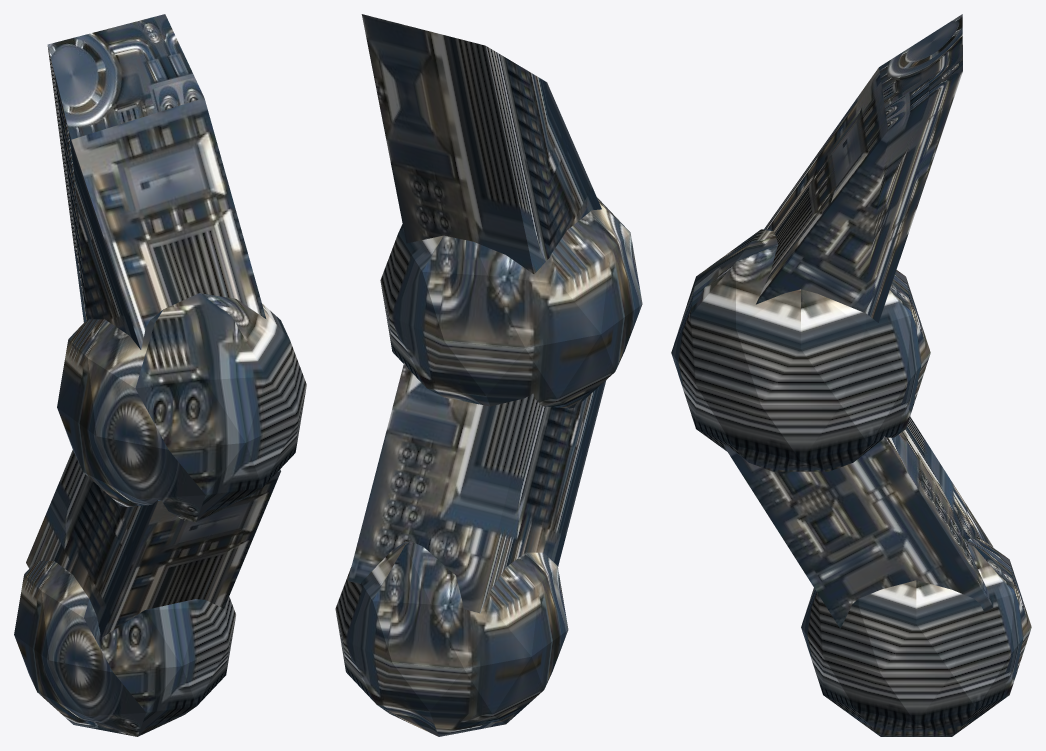
File: afinger.obj
3 views of the same model, side by side, from view 1: azimuth 30°, elevation 25°; view 2: azimuth 150°, elevation 25°; view 3: azimuth 270°, elevation 25° (orthographic). The views are drawn at different scales.
Visible parts, largest first — view 1: Icosphere.001_Icosphere.002; view 2: Icosphere.001_Icosphere.002; view 3: Icosphere.001_Icosphere.002.
Boxes of the visible parts, bbox=[...] form: Icosphere.001_Icosphere.002: bbox=[14, 14, 306, 736]; Icosphere.001_Icosphere.002: bbox=[335, 14, 642, 736]; Icosphere.001_Icosphere.002: bbox=[671, 14, 1031, 736].
Bounding box in the file's own units: 1.71 × 5.3 × 2.5.
